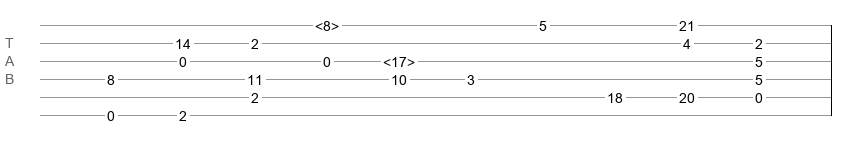0: (107, 108, 115, 118), (179, 54, 187, 64), (323, 54, 331, 64), (755, 90, 763, 100)
10: (391, 72, 407, 82)
11: (247, 72, 263, 82)
14: (175, 36, 191, 46)
18: (607, 90, 623, 100)
2: (179, 108, 187, 118), (251, 36, 259, 46), (251, 90, 259, 100), (755, 36, 763, 46)
20: (679, 90, 695, 100)
21: (679, 18, 695, 28)
3: (467, 72, 475, 82)
4: (683, 36, 691, 46)
5: (539, 18, 547, 28), (755, 72, 763, 82), (755, 54, 763, 64)
8: (107, 72, 115, 82)
harmonic: (383, 54, 415, 64), (315, 18, 339, 28)
